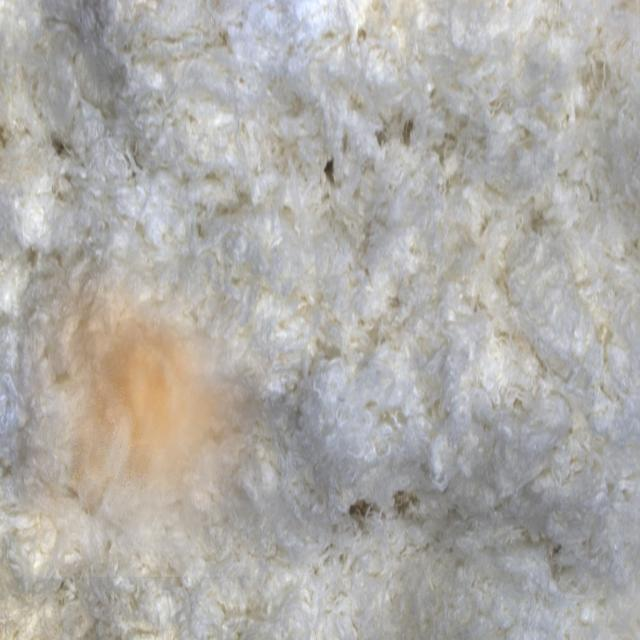dust: (18, 255, 271, 577)
